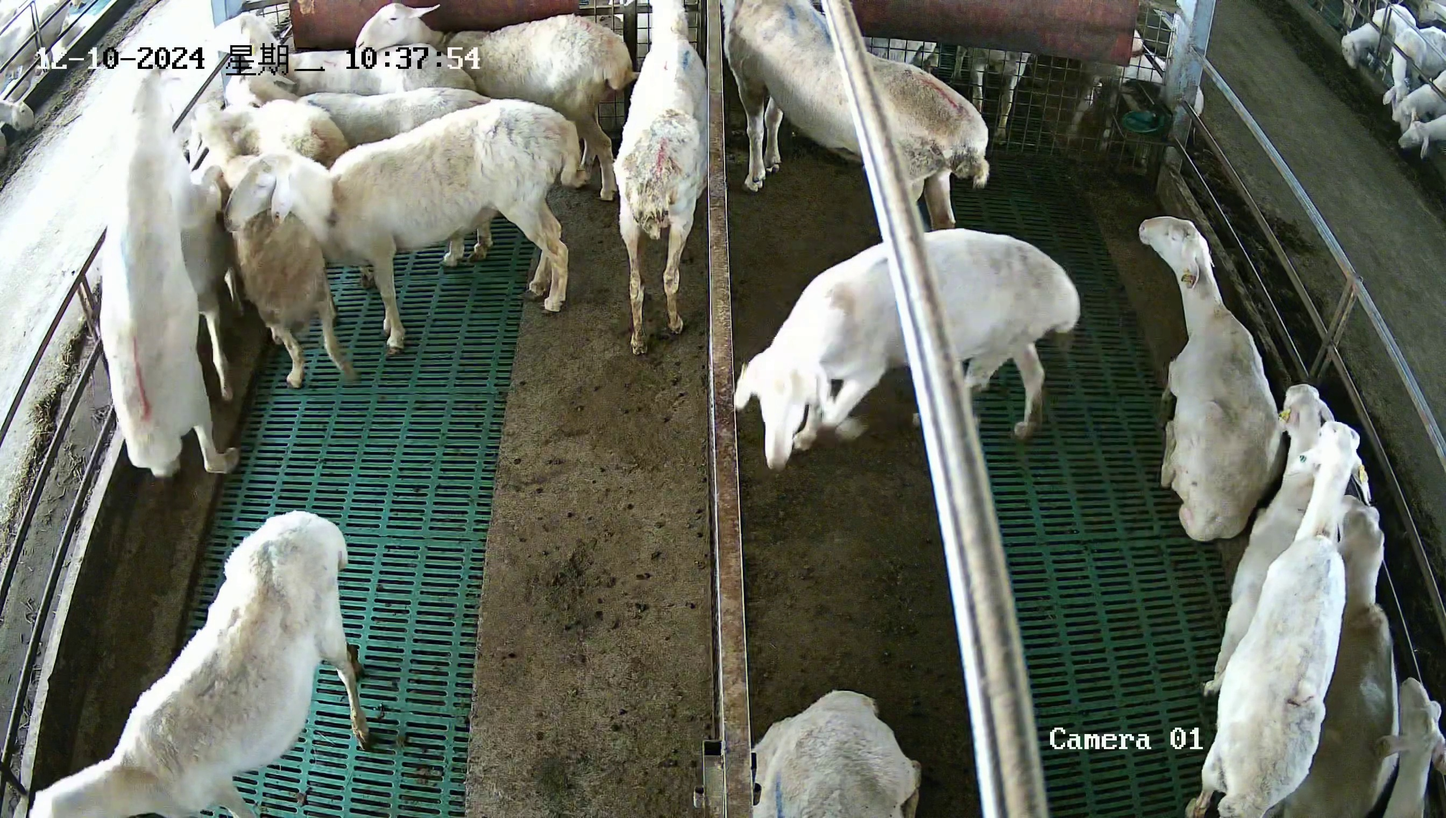Smounting: (97, 54, 247, 477)
mounted: (175, 118, 243, 403)
